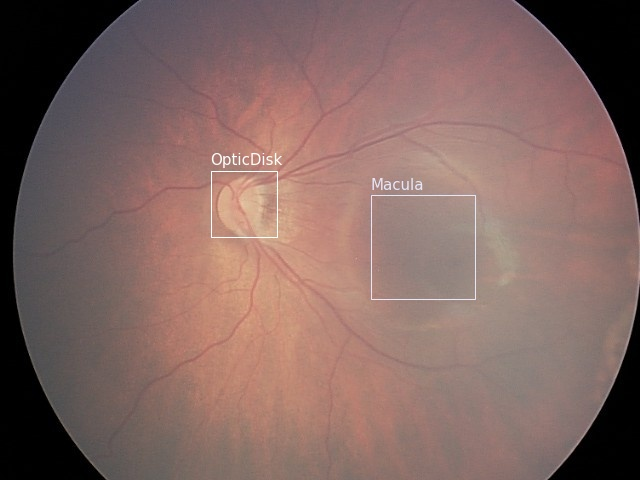Macula: (370, 194, 474, 298)
OpticDisk: (210, 170, 276, 236)
